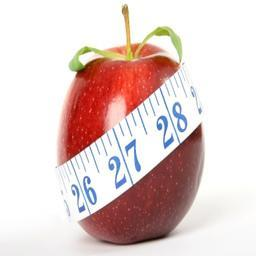apple: (54, 13, 203, 246)
